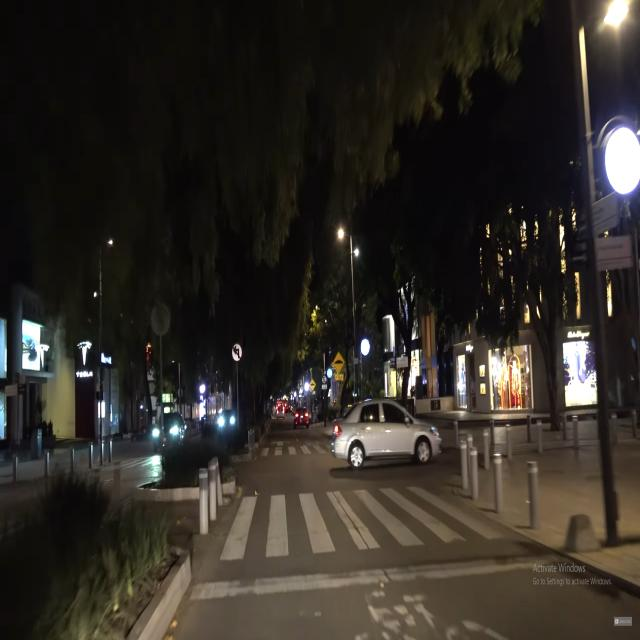headlights: (146, 422, 184, 443), (213, 411, 239, 431)
